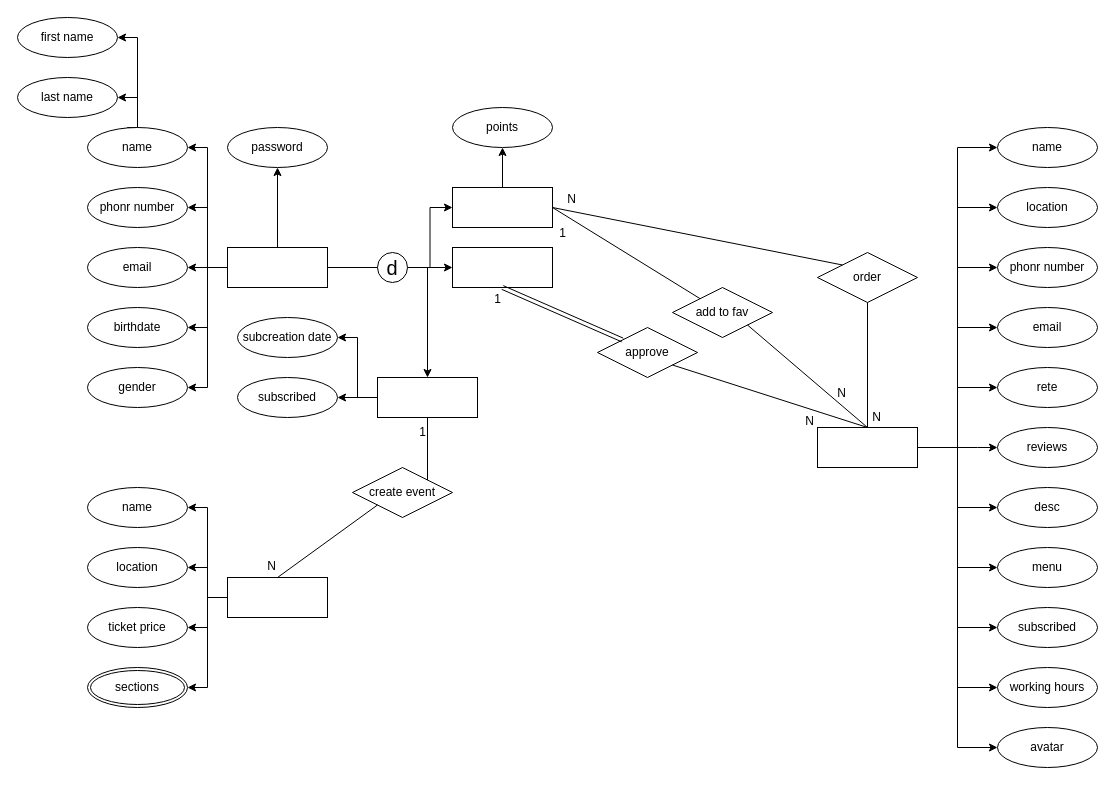
The diagram is 1115 pixels wide and 785 high, and some of its shapes have lost their labels. Here are the shapes that lost their labels. From the top down, the centre of each, then its label:
At pixel 502 207: "end user".
At pixel 277 267: "user".
At pixel 502 267: "admin".
At pixel 427 397: "event organizer".
At pixel 867 447: "restaurants".
At pixel 277 597: "event".
